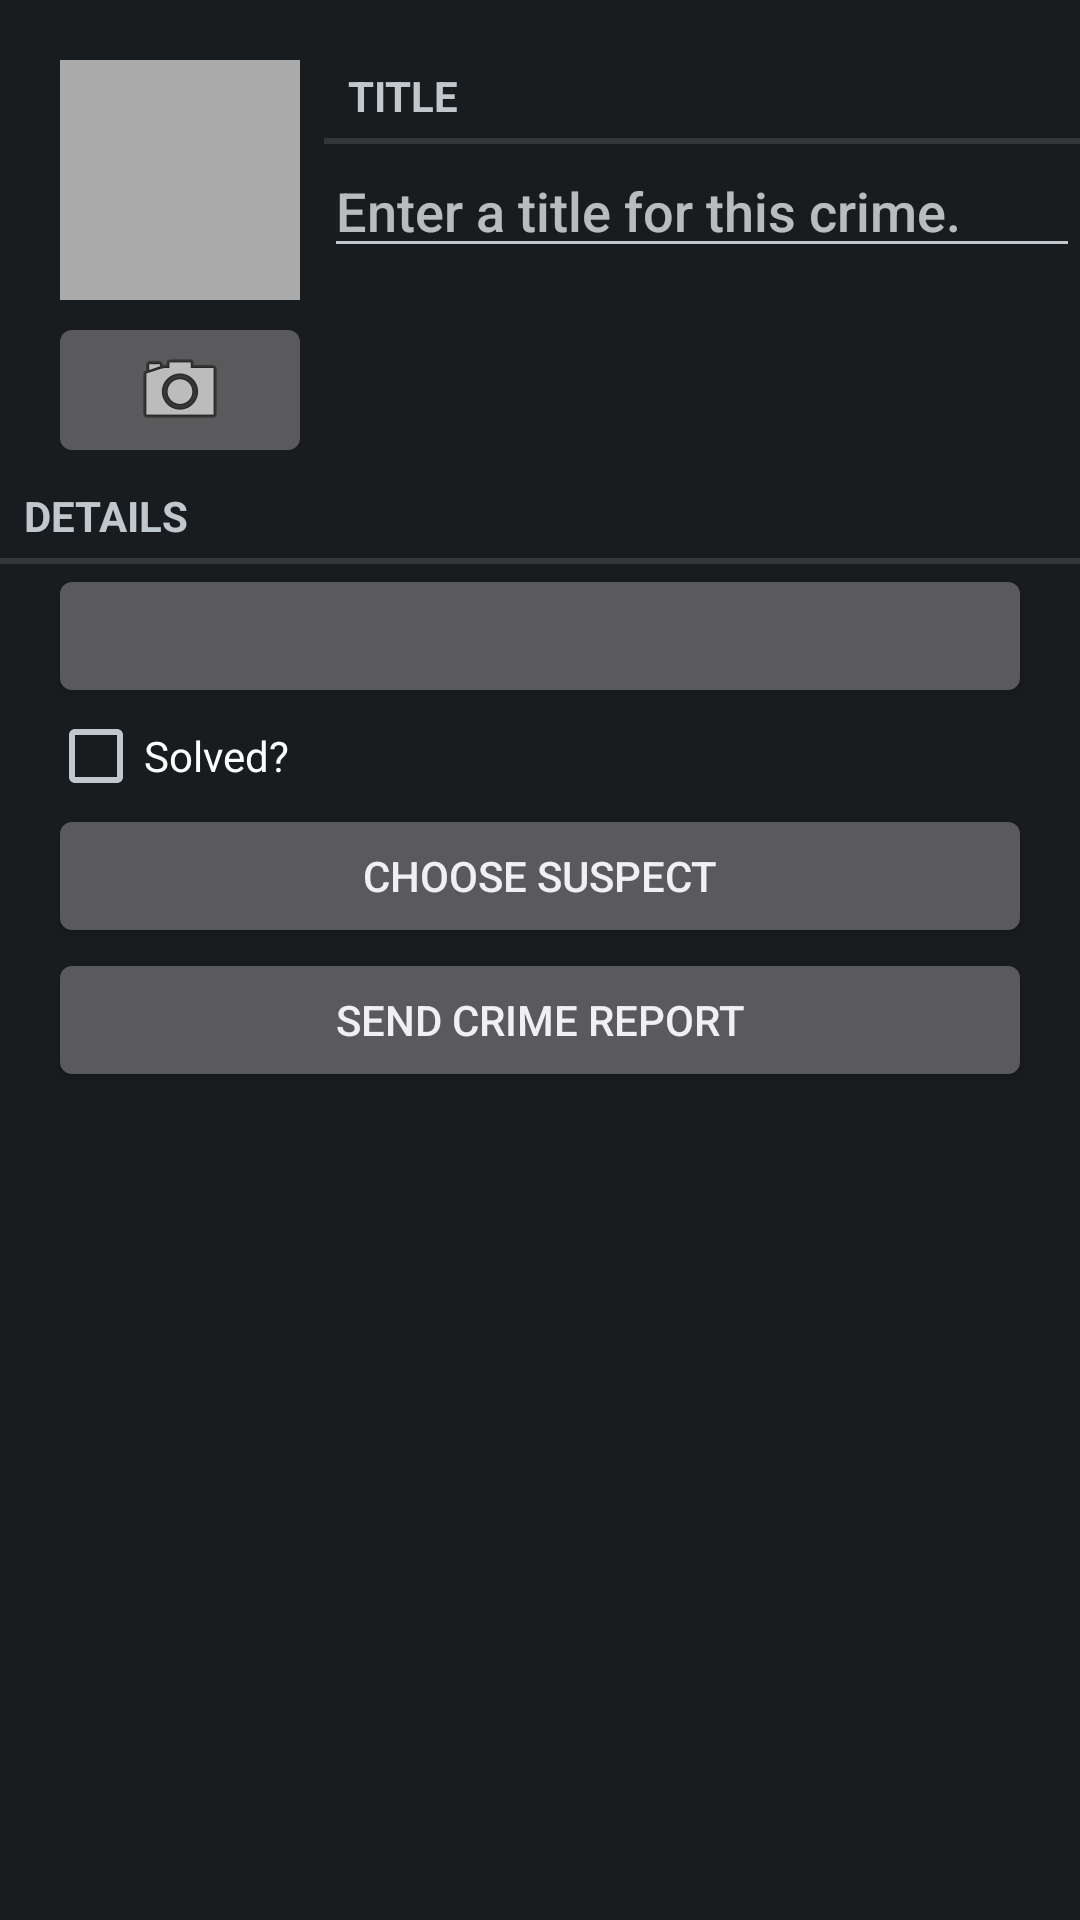

Screen size 1080*1920. Icon name, then its center in pixels as [x,y]:
Take: [180,390]
